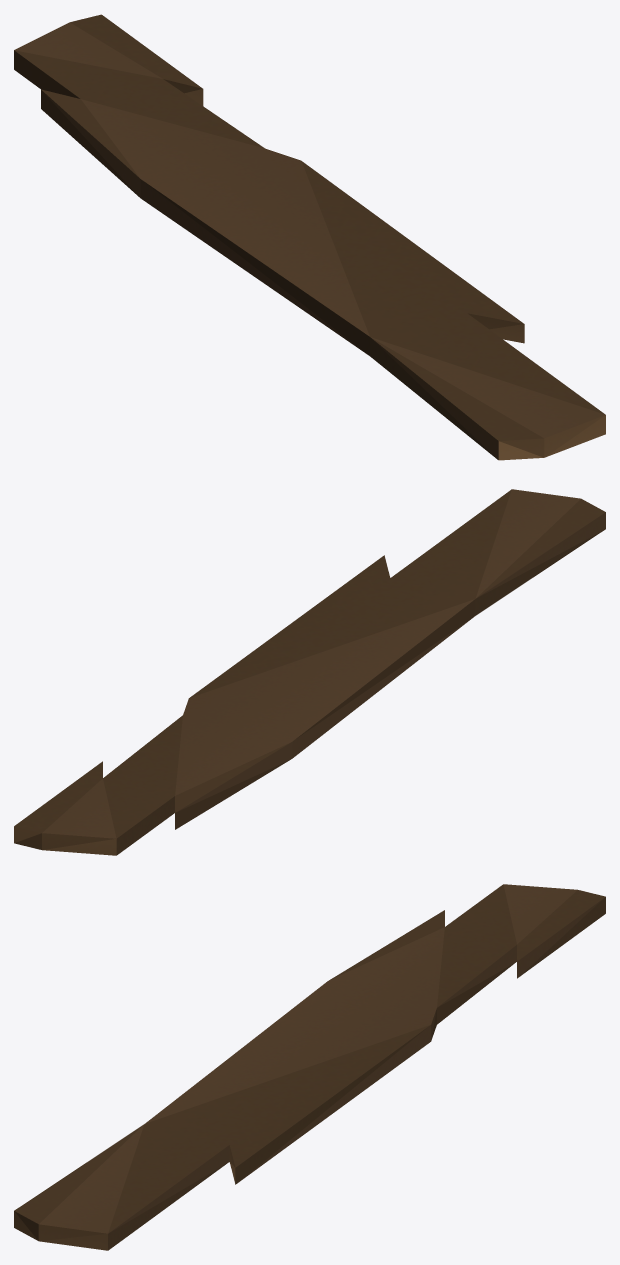
Rendered from Wood_Single_5.fbx.
The picture shows the model from 3 angles, top to bottom: view 1: azimuth 30°, elevation 25°; view 2: azimuth 150°, elevation 25°; view 3: azimuth 330°, elevation 25°; orthographic projection. The views are drawn at different scales.
Parts seen in each view (by area): view 1: pCube125; view 2: pCube125; view 3: pCube125.
Boxes of the visible parts, x1,y1,x2,y2 form: pCube125: [14, 14, 605, 460]; pCube125: [14, 489, 605, 855]; pCube125: [14, 884, 605, 1250].
Bounding box in the file's own units: 60 × 8 × 407.
1 material, 1 textured.
